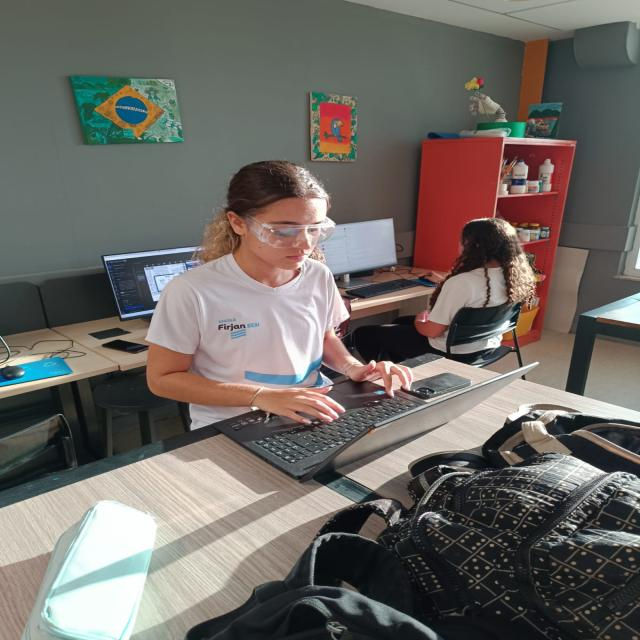oculos-epi: (243, 213, 340, 247)
